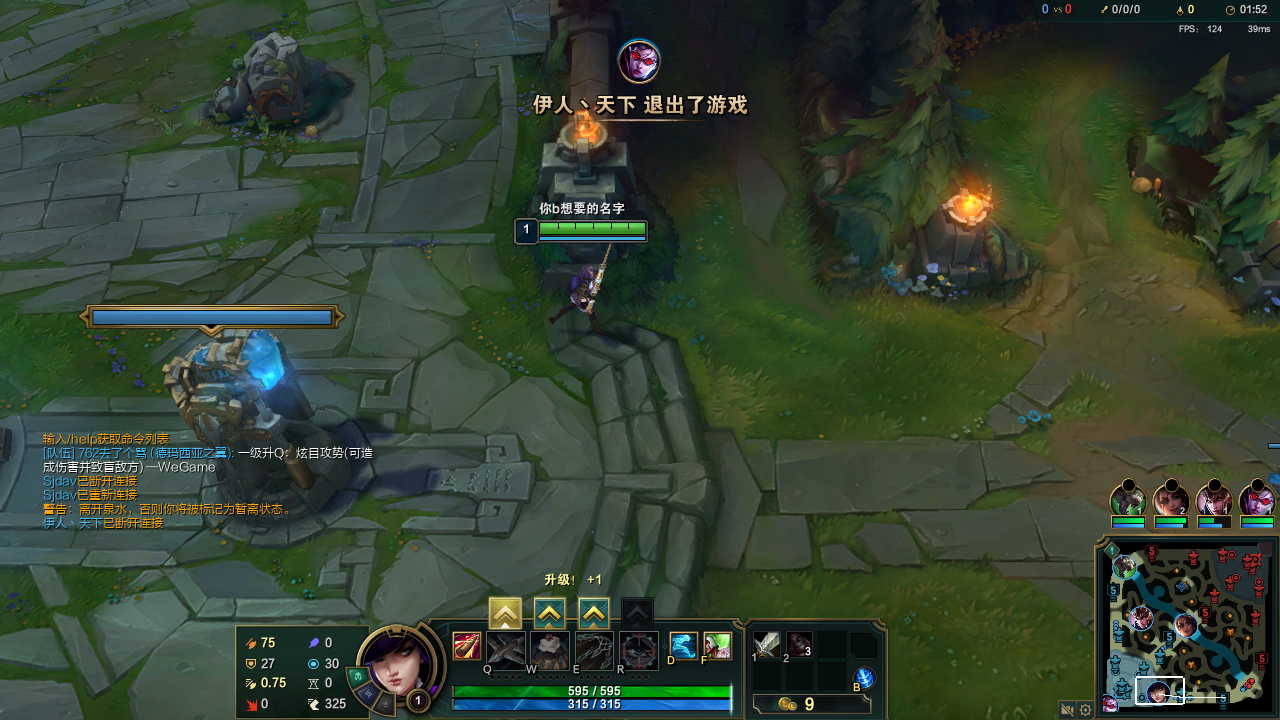Shenji: (579, 595, 607, 632), (535, 605, 565, 629)
Tuijianshengji: (491, 601, 516, 626)
